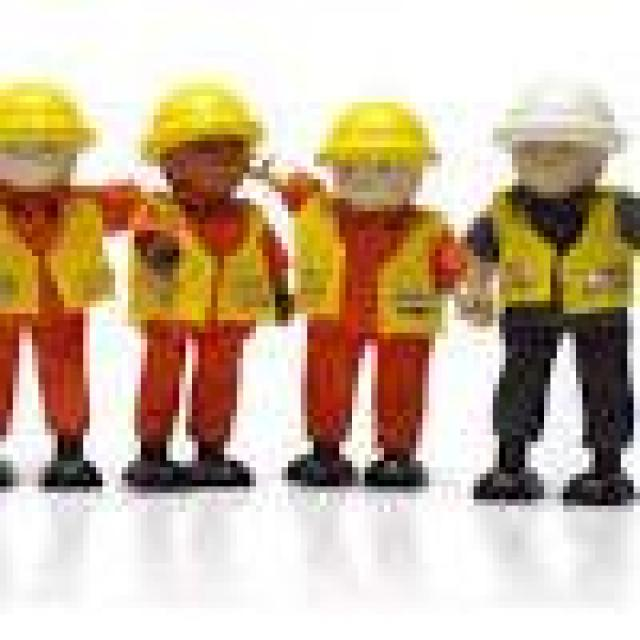Reflective-Jacket: (307, 204, 467, 473), (121, 192, 282, 358), (473, 192, 640, 333)
Safety-Helmet: (128, 57, 288, 166), (294, 83, 454, 186), (480, 58, 634, 160), (0, 58, 115, 179)
